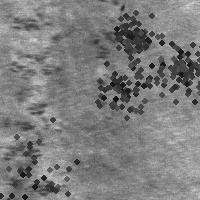rolled-in_scale: (3, 6, 64, 195), (78, 43, 168, 133), (0, 116, 92, 200), (128, 21, 200, 123), (101, 4, 163, 66), (156, 41, 200, 97), (88, 27, 125, 88)
